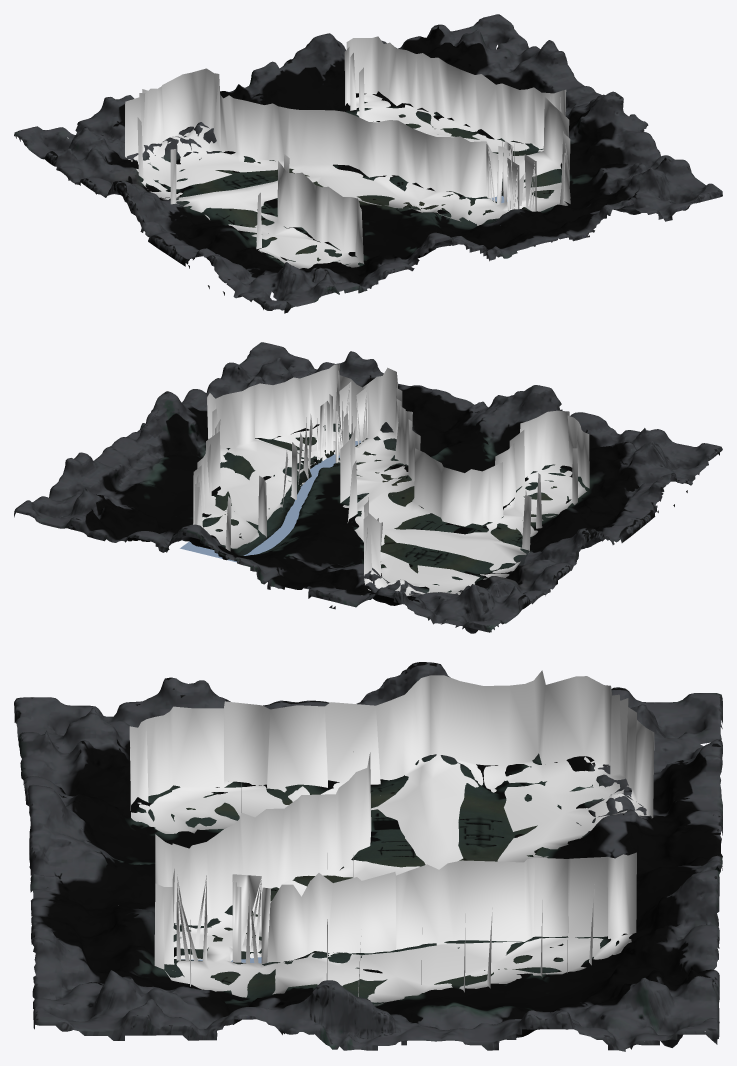
File: TERRAIN.glb
3 renders of one model, top to bottom at view 1: azimuth 30°, elevation 25°; view 2: azimuth 150°, elevation 25°; view 3: azimuth 270°, elevation 25°, orthographic. The views are drawn at different scales.
Visible parts, largest first — view 1: TERRAIN, RIDGID; view 2: TERRAIN, RIDGID, Plane; view 3: RIDGID, TERRAIN.
Boxes of the visible parts, x1,y1,x2,y2 form: TERRAIN: (14,14,722,313); RIDGID: (125,36,570,268); TERRAIN: (14,342,722,633); RIDGID: (193,364,589,595); Plane: (180,440,360,562); RIDGID: (129,670,654,1005); TERRAIN: (14,662,722,1051).
Size of the model in its own units: 82.09 by 15.72 by 72.11.
Materials: 2 (1 with a texture image).
